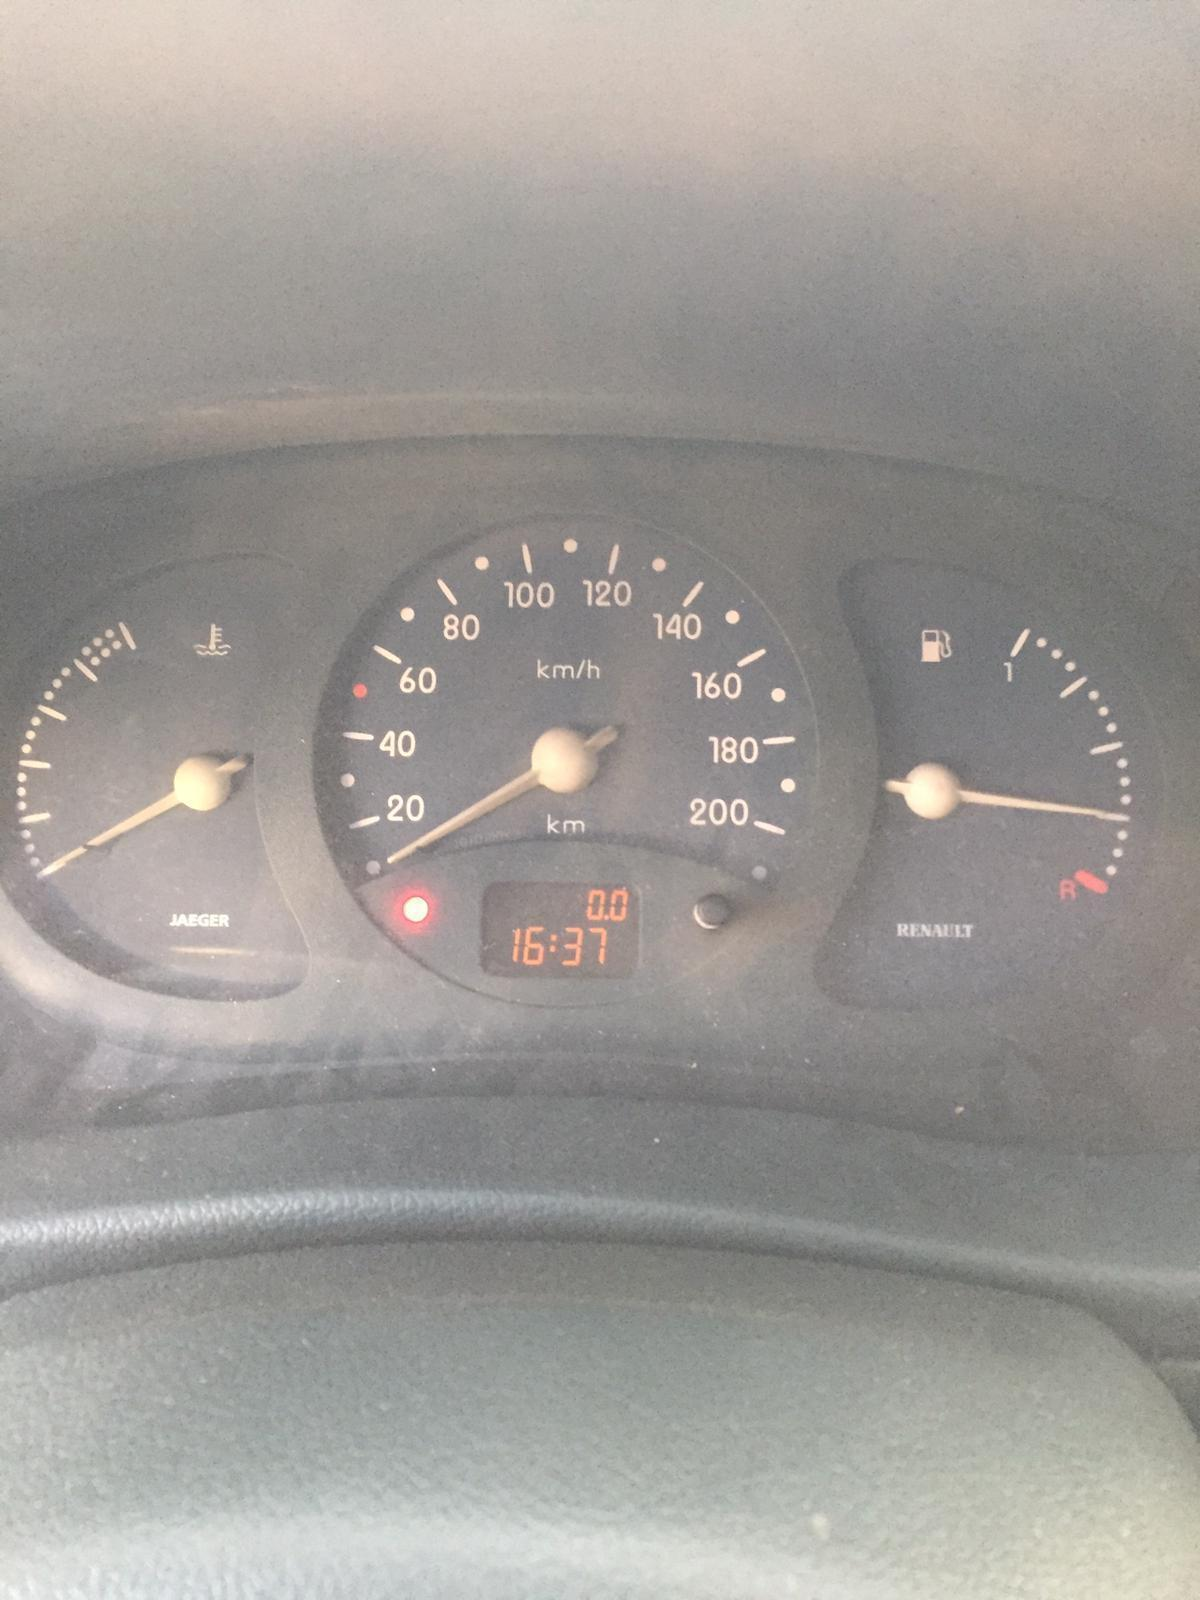,: (603, 913, 610, 921)
0: (609, 888, 629, 922), (586, 888, 605, 921)
1: (511, 927, 521, 963)
3: (560, 926, 584, 966)
6: (522, 925, 545, 966)
7: (586, 926, 608, 964)
X: (548, 934, 558, 952)
odometer: (476, 877, 644, 981)
